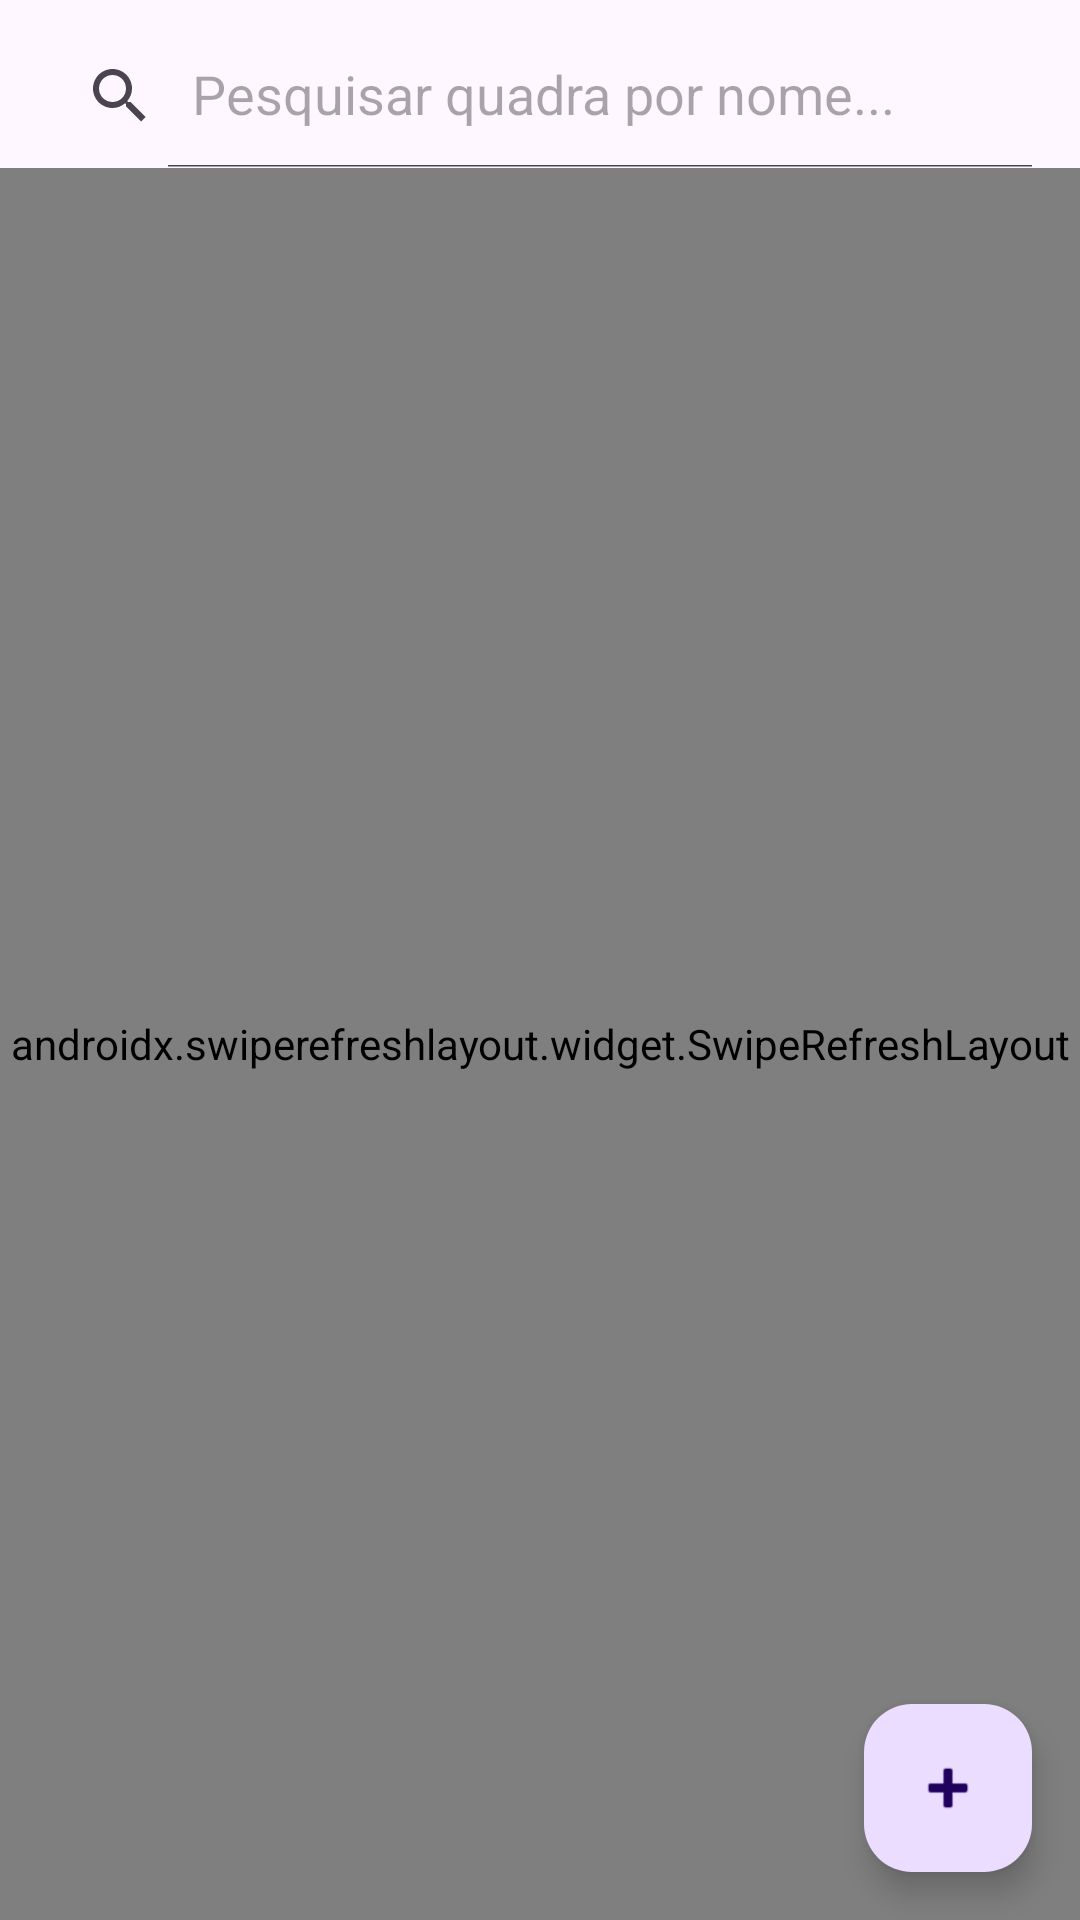

Screen size 1080px×1920px. Icon name, then its center in pixels as [x,y]:
Adicionar Quadra: [948,1788]
